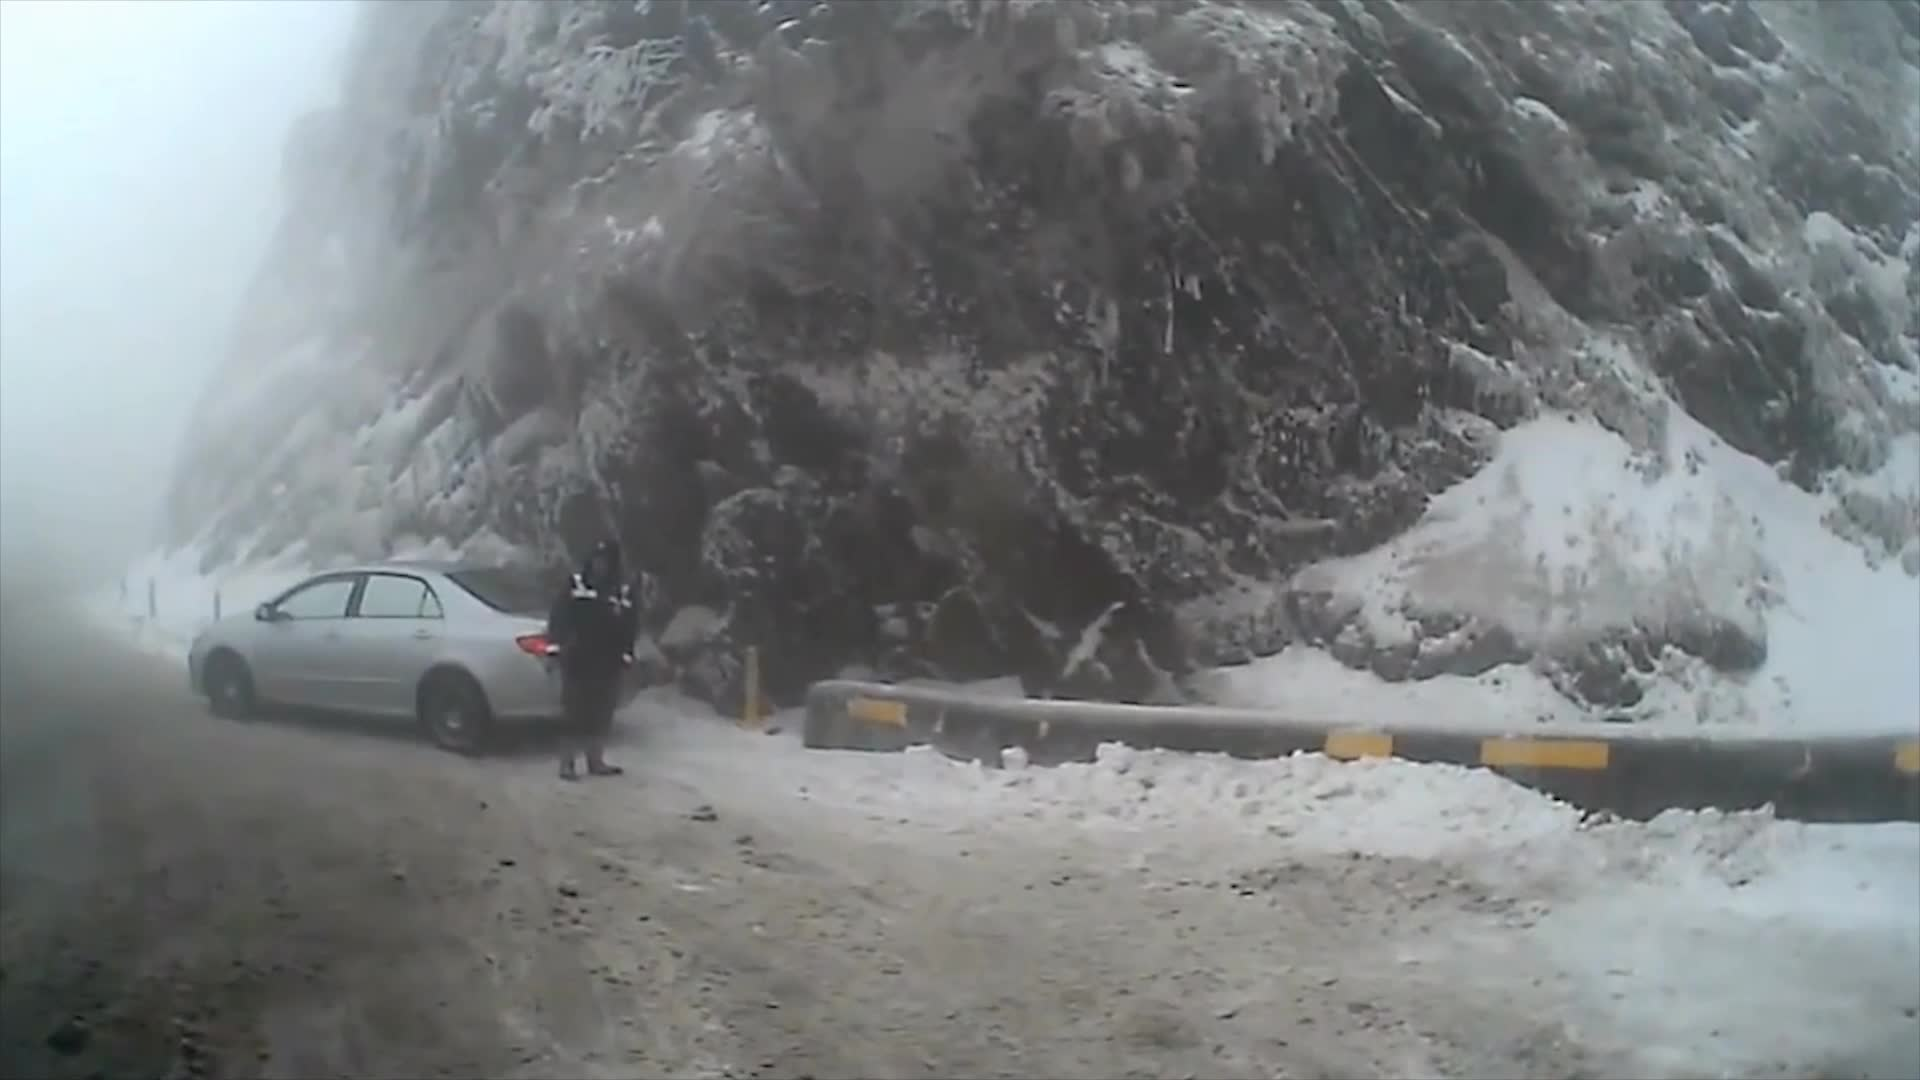pedestrian: (547, 538, 636, 783)
vehicle: (183, 555, 641, 756)
